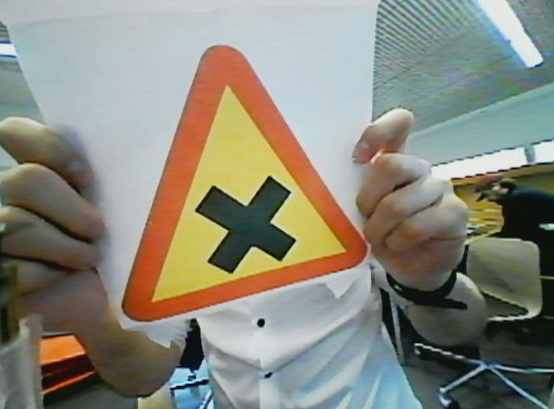junction: (116, 45, 372, 328)
